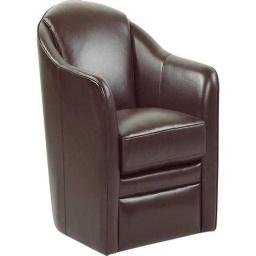Chair: (37, 3, 217, 254)
